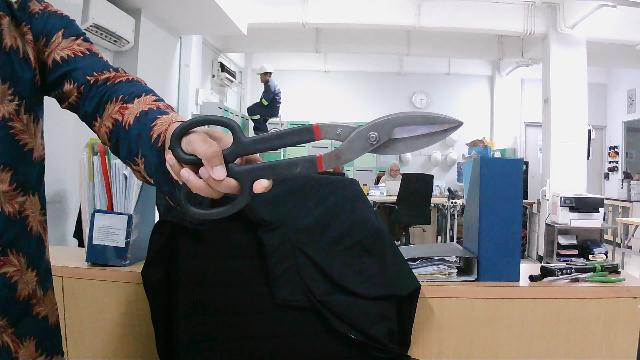gunting_plat: (131, 97, 484, 253)
